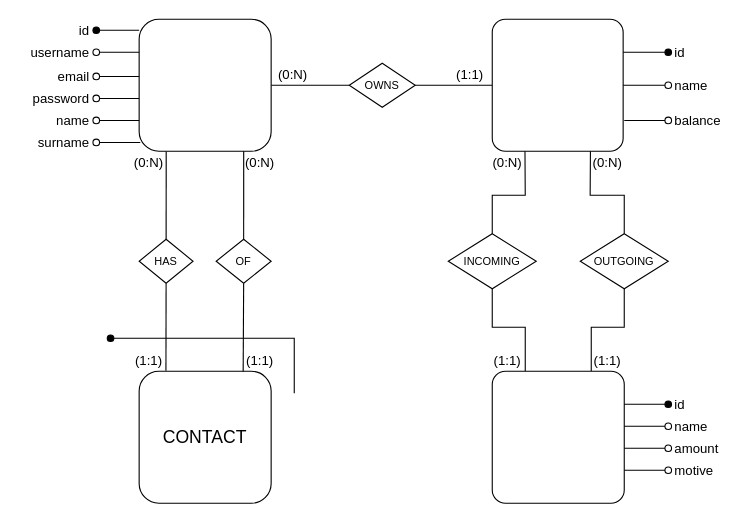
The diagram is 752 pixels wide and 523 high, and some of its shapes have lost their labels. The centre of each missing label's shape, as x and y in pixels:
"ACCOUNT" belongs at point 557,84.
"MOVEMENT" belongs at point 557,436.
"USER" belongs at point 204,84.
